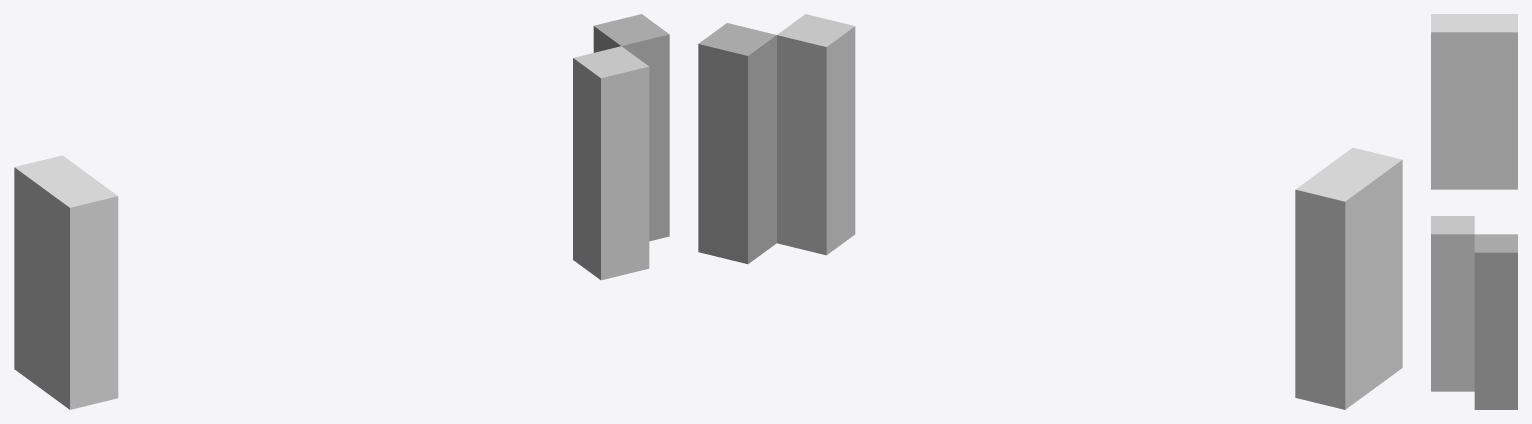
The model's file is bear-2.obj.
The picture shows the model from 3 angles, left to right: view 1: azimuth 30°, elevation 25°; view 2: azimuth 150°, elevation 25°; view 3: azimuth 270°, elevation 25°; orthographic projection. The views are drawn at different scales.
Size of the model in its own units: 1.3 by 0.4 by 0.2.
1 material, 1 textured.
